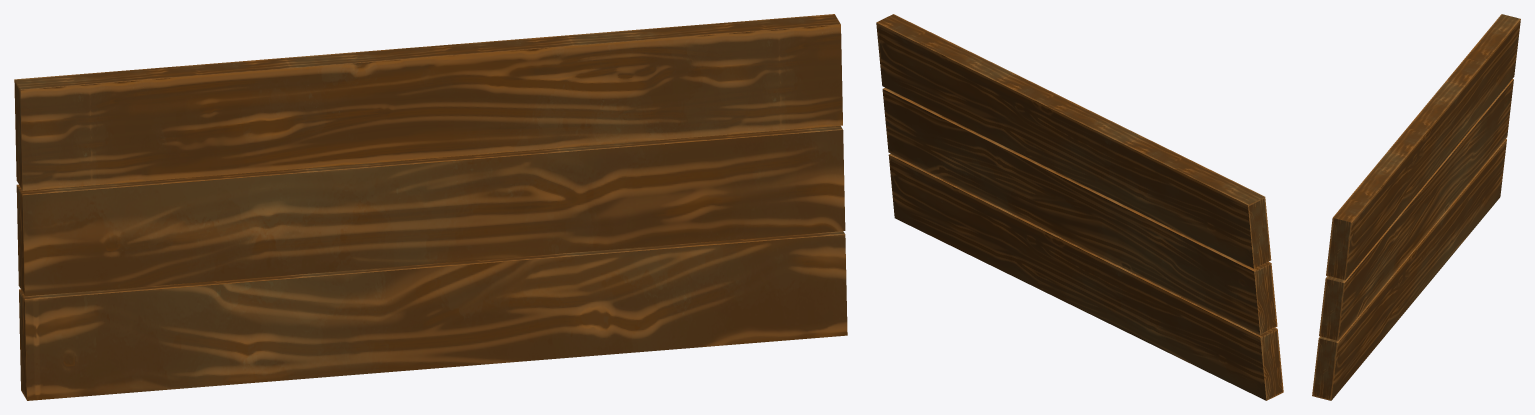
The picture shows the model from 3 angles, left to right: view 1: azimuth 30°, elevation 25°; view 2: azimuth 150°, elevation 25°; view 3: azimuth 270°, elevation 25°; orthographic projection. The views are drawn at different scales.
Parts seen in each view (by area): view 1: Cube.1956; view 2: Cube.1956; view 3: Cube.1956.
Part boxes in pixels (x1,y1,x2,y2): Cube.1956: (14,14,847,400); Cube.1956: (876,14,1283,400); Cube.1956: (1312,14,1520,400).
Bounding box in the file's own units: 315 × 128 × 132.
1 material, 1 textured.
